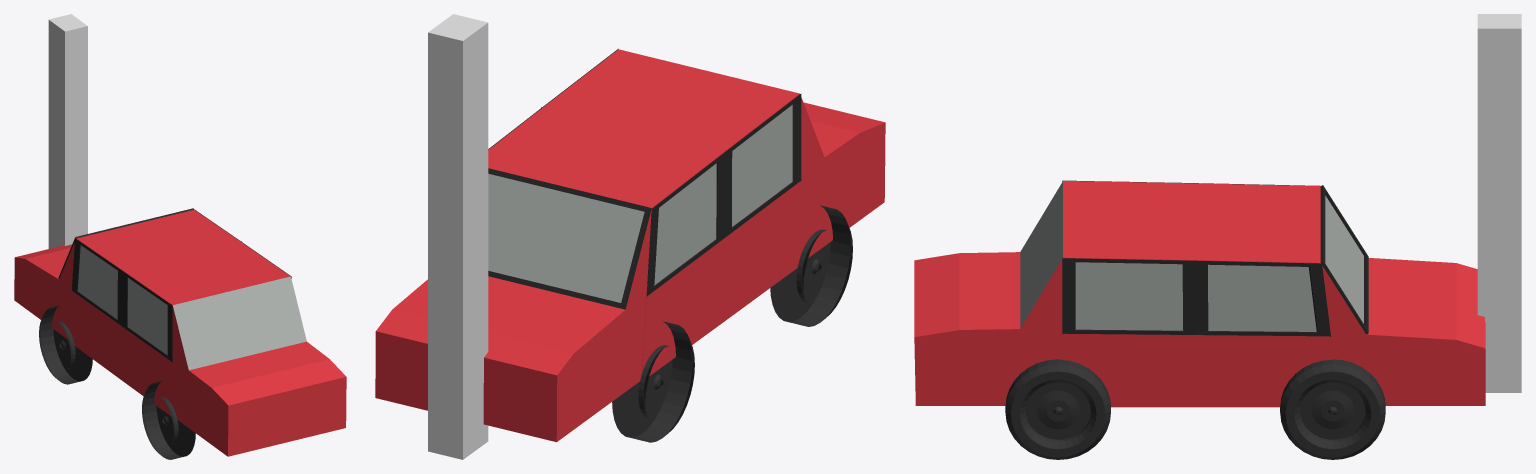
Rendered from carrrr1.fbx.
The picture shows the model from 3 angles, left to right: view 1: azimuth 30°, elevation 25°; view 2: azimuth 150°, elevation 25°; view 3: azimuth 270°, elevation 25°; orthographic projection. The views are drawn at different scales.
Parts seen in each view (by area): view 1: Circle, Cube.001; view 2: Circle, Cube.001; view 3: Circle, Cube.001.
Boxes of the visible parts, x1,y1,x2,y2 form: Circle: [14, 208, 346, 459]; Cube.001: [48, 14, 87, 248]; Circle: [375, 48, 885, 442]; Cube.001: [428, 14, 488, 459]; Circle: [914, 180, 1485, 459]; Cube.001: [1477, 14, 1521, 392].
Bounding box in the file's own units: 111 × 217 × 302.
